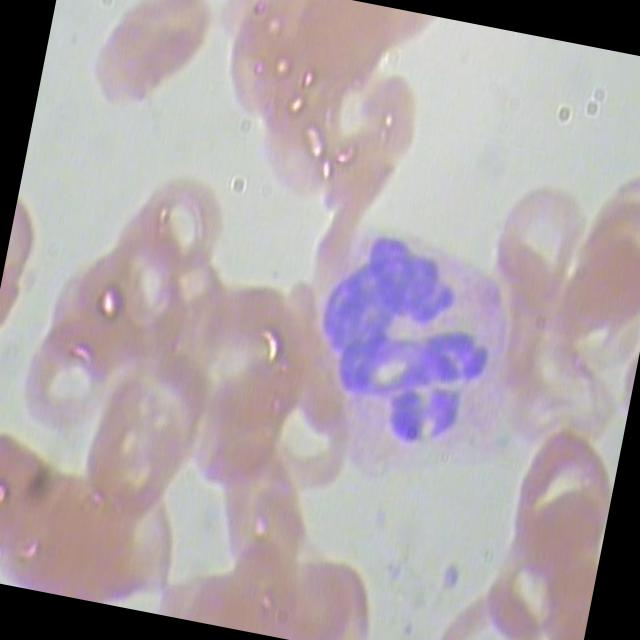Platelets: (426, 559, 470, 611)
RBC: (74, 354, 218, 532), (494, 418, 624, 589), (82, 0, 221, 132), (200, 451, 324, 598), (482, 174, 596, 315), (117, 170, 232, 298), (8, 326, 122, 452), (208, 12, 306, 134), (566, 194, 640, 326), (577, 162, 640, 284), (430, 588, 552, 640)
WBC: (290, 214, 548, 500)
